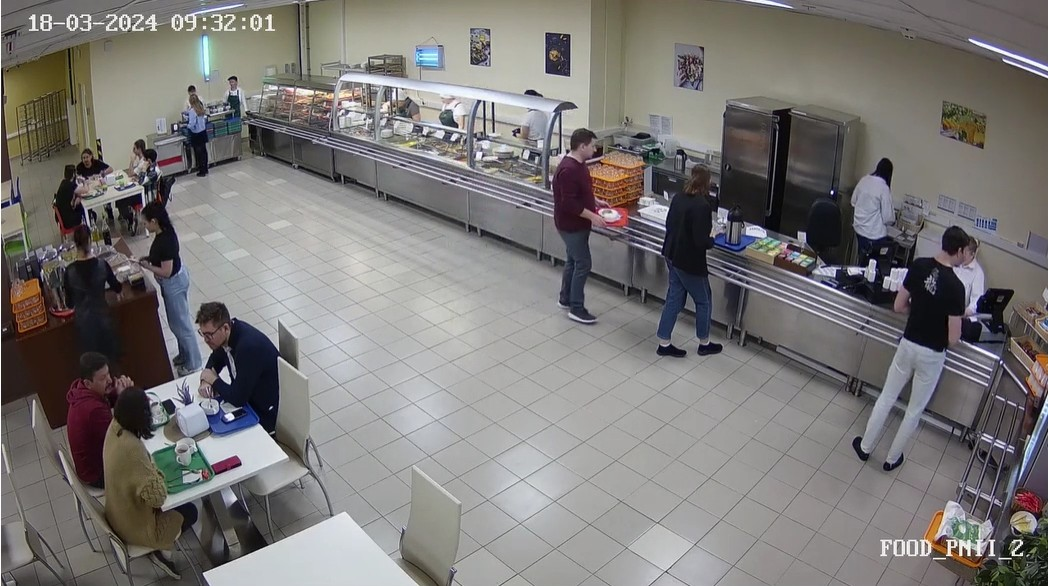Na_Kasse: (753, 210, 1008, 469)
Ne_v_Ocheredi: (120, 196, 235, 340), (49, 221, 145, 352)
Personal: (841, 141, 897, 268), (511, 81, 555, 155), (963, 227, 994, 317), (430, 85, 475, 140), (383, 81, 422, 123), (225, 65, 249, 118)
Vybiraet: (552, 117, 628, 328), (653, 158, 730, 362), (180, 96, 215, 182)
Za_Stolom: (22, 345, 124, 492), (194, 296, 293, 432), (102, 387, 171, 555), (47, 157, 86, 223), (69, 137, 118, 179), (119, 129, 146, 175), (137, 146, 167, 187)
